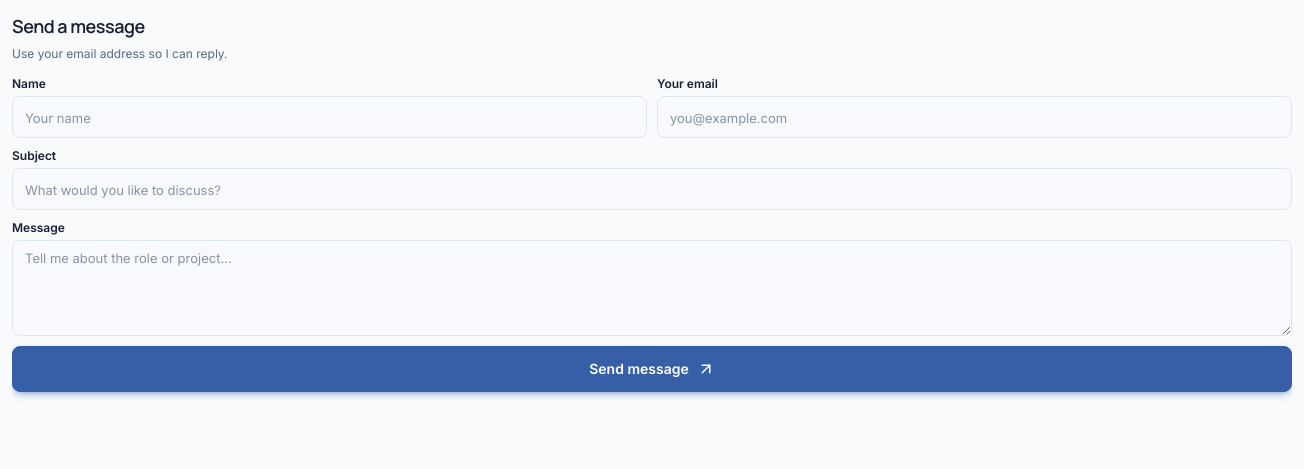
Scenario: ContactForm › does not submit a second time while the first request is pending
The width and height of the screenshot is (1304, 469).
Type "A" into the field labelled "Name". click: (330, 117)
box: [12,96,647,138]
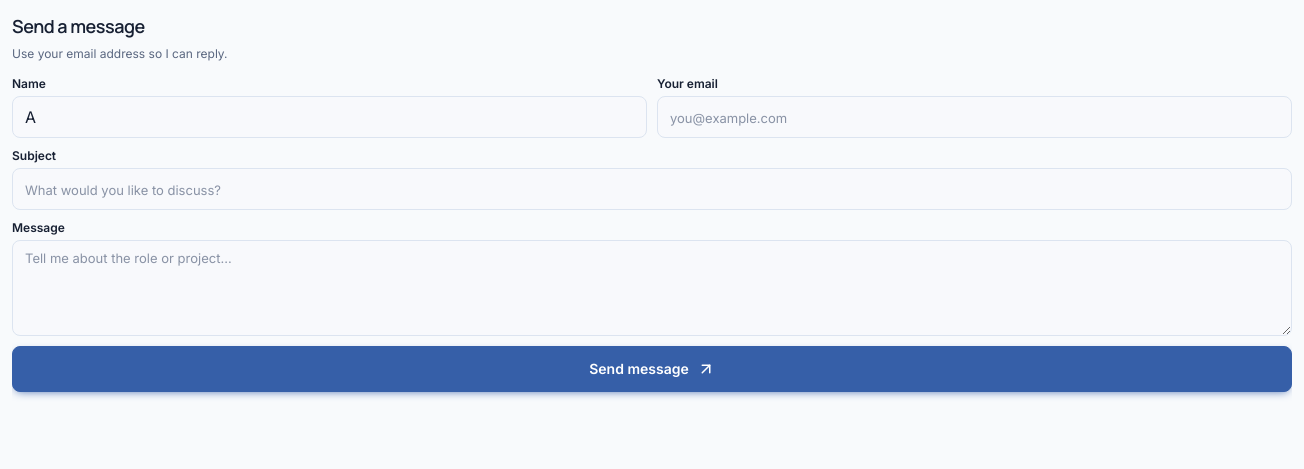
Type "a@example.com" into the field labelled "Your email". click: (974, 117)
box: [657,96,1292,138]
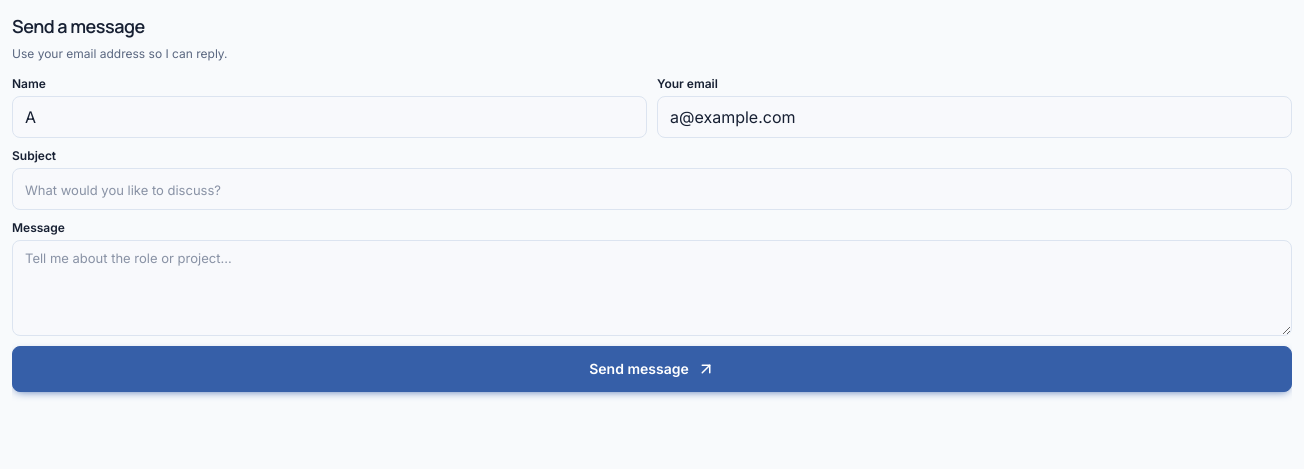
Type "Hello" into the field labelled "Subject". click: (652, 189)
box: [12,168,1292,210]
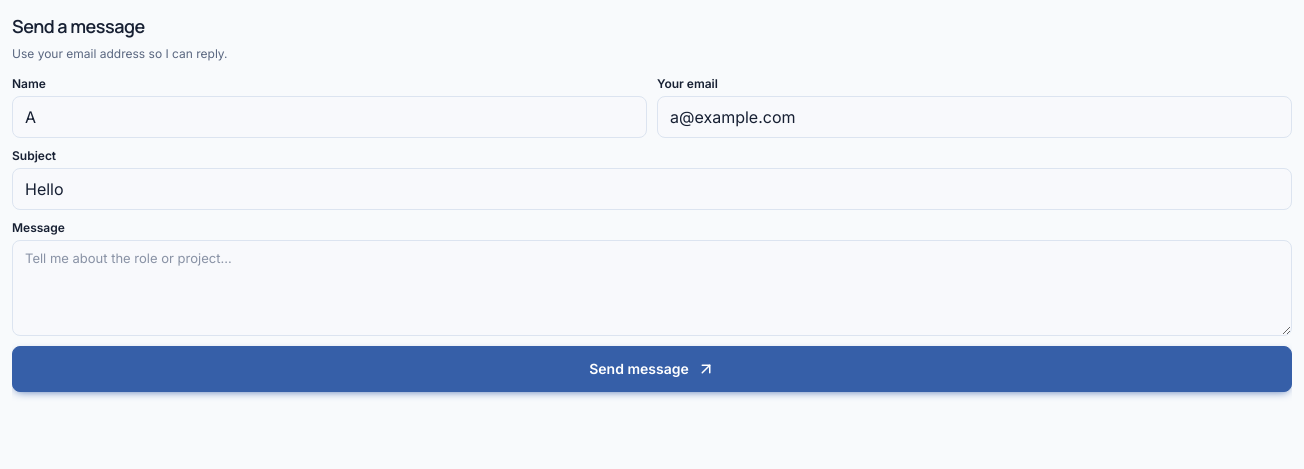
Type "Hi" into the text box labelled "Message". click: (652, 288)
box: [12,240,1292,336]
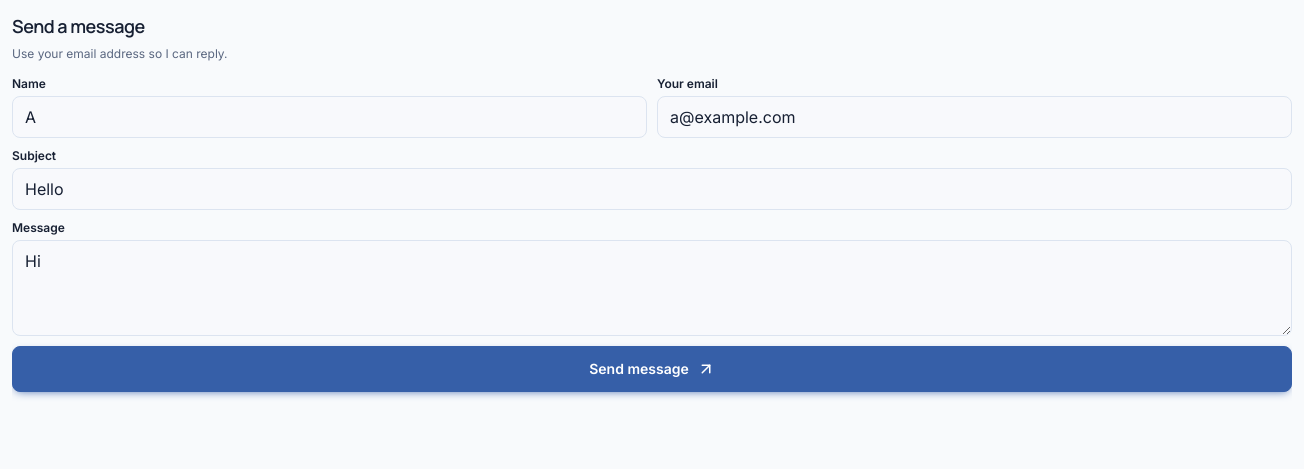
Click the button "Send message". click: (652, 369)
box: [12,346,1292,392]
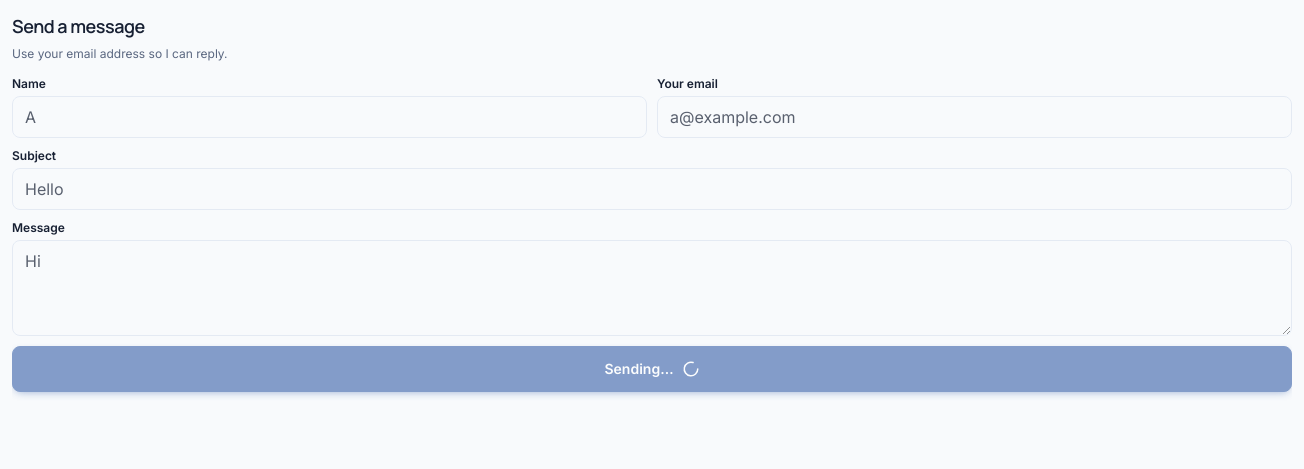
Click the button named "send message". click: (652, 369)
box: [12,346,1292,392]
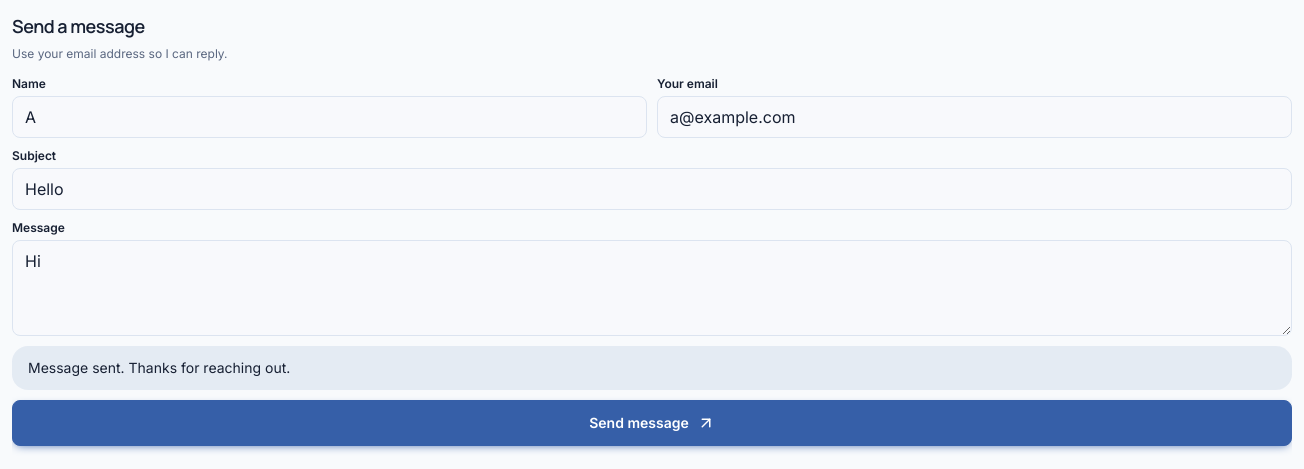
Check: the button "Send message" is enabled, box [12,400,1292,446]
